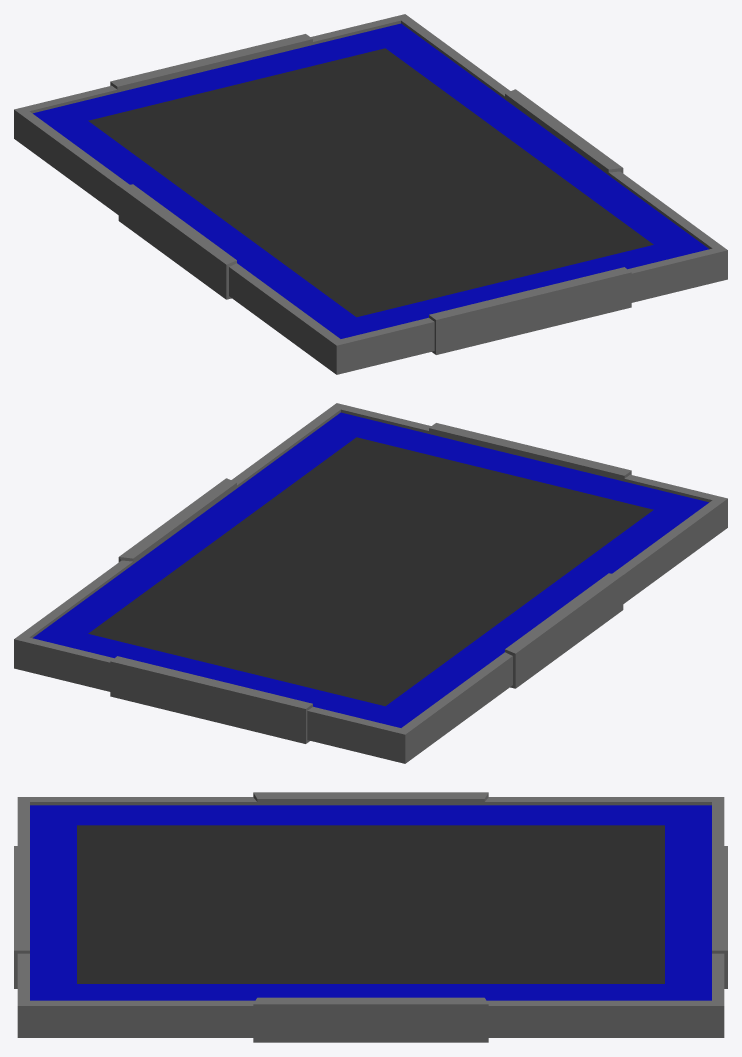
Rendered from DataPad.fbx.
3 renders of one model, top to bottom at view 1: azimuth 30°, elevation 25°; view 2: azimuth 150°, elevation 25°; view 3: azimuth 270°, elevation 25°, orthographic. The views are drawn at different scales.
Parts seen in each view (by area): view 1: Cube; view 2: Cube; view 3: Cube.
Boxes of the visible parts, x1,y1,x2,y2 form: Cube: (14, 14, 727, 374); Cube: (14, 403, 727, 763); Cube: (14, 792, 727, 1042).
Size of the model in its own units: 28.4 by 2.4 by 40.4.
